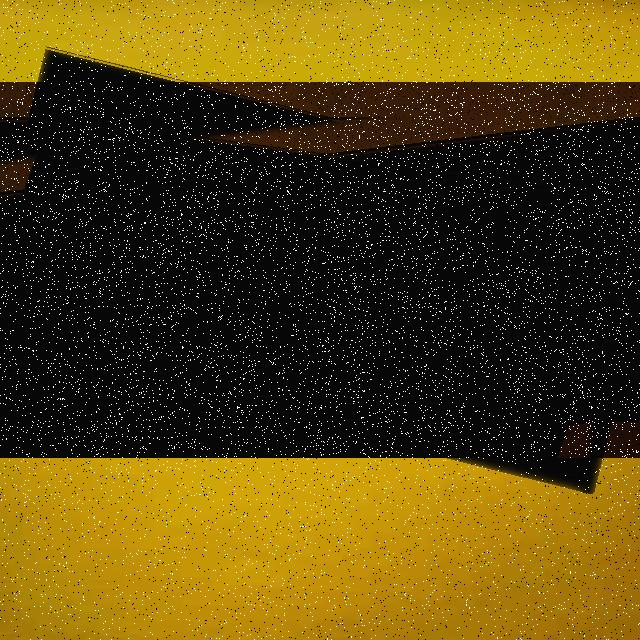lima puluh ribu rupiah: (0, 82, 640, 458)
